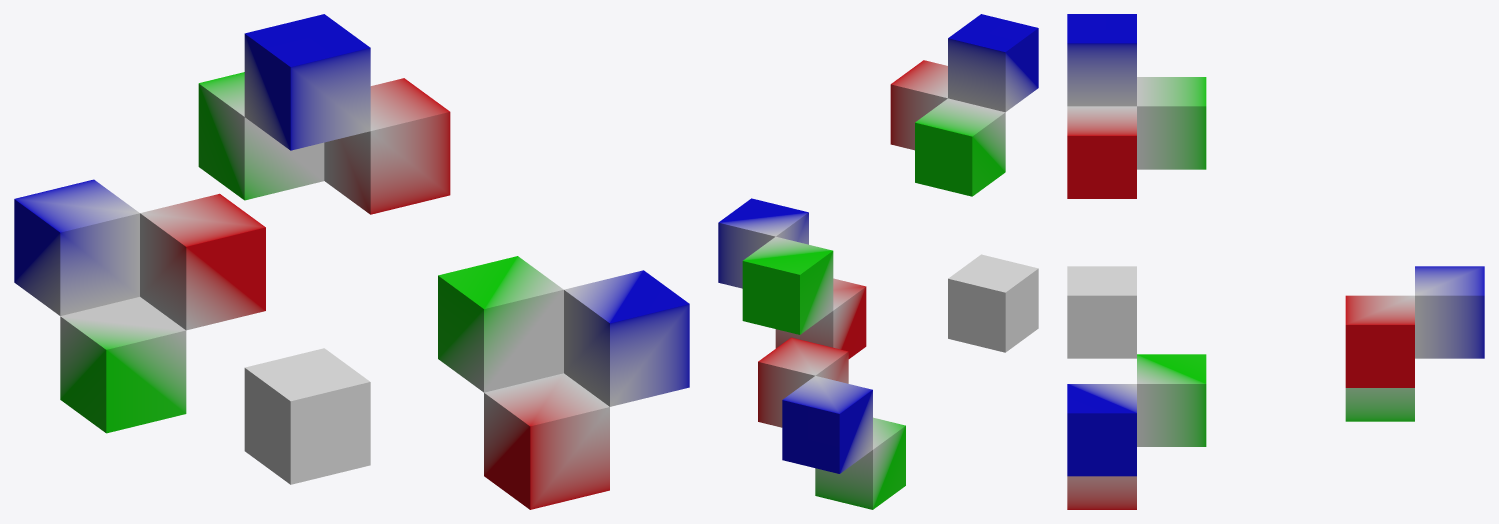
File: nodetest.fbx
3 views of the same model, side by side, from view 1: azimuth 30°, elevation 25°; view 2: azimuth 150°, elevation 25°; view 3: azimuth 270°, elevation 25° (orthographic). The views are drawn at different scales.
Visible parts, largest first — view 1: Cube.003, Cube.002, Cube, Cube.001; view 2: Cube, Cube.003, Cube.002, Cube.001; view 3: Cube, Cube.003, Cube.002, Cube.001.
Part boxes in pixels (x1,y1,x2,y2): Cube.003: (14,179,265,433); Cube.002: (438,256,689,509); Cube: (198,14,450,214); Cube.001: (244,348,370,484); Cube: (890,14,1038,196); Cube.003: (758,337,905,509); Cube.002: (718,198,866,358); Cube.001: (948,254,1038,352); Cube: (1067,14,1206,198); Cube.003: (1345,266,1484,421); Cube.002: (1067,354,1206,509); Cube.001: (1067,266,1136,358).
Bounding box in the file's own units: 10 × 12 × 12.
